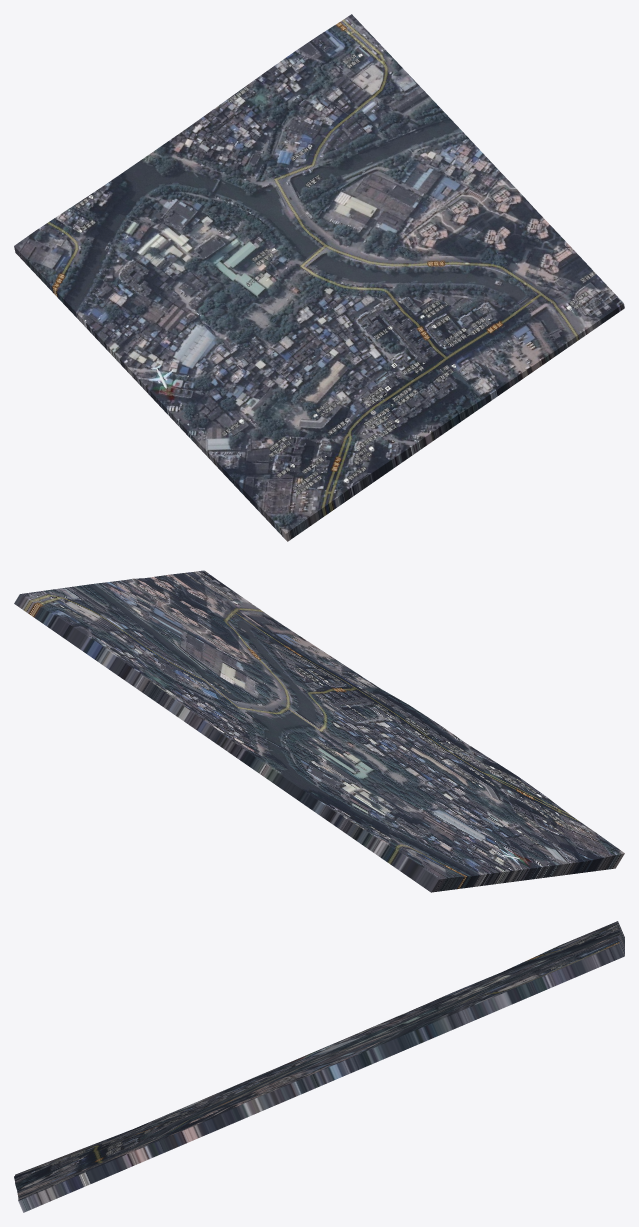
3 views of the same model, one above another, from view 1: azimuth 30°, elevation 25°; view 2: azimuth 150°, elevation 25°; view 3: azimuth 270°, elevation 25° (orthographic). The views are drawn at different scales.
Parts seen in each view (by area): view 1: 0_13_1; view 2: 0_13_1; view 3: 0_13_1.
Part boxes in pixels (x1,y1,x2,y2): 0_13_1: [14, 14, 624, 541]; 0_13_1: [14, 570, 624, 892]; 0_13_1: [14, 921, 624, 1212].
Bounding box in the file's own units: 598 × 438 × 550.
Materials: 1 (1 with a texture image).
